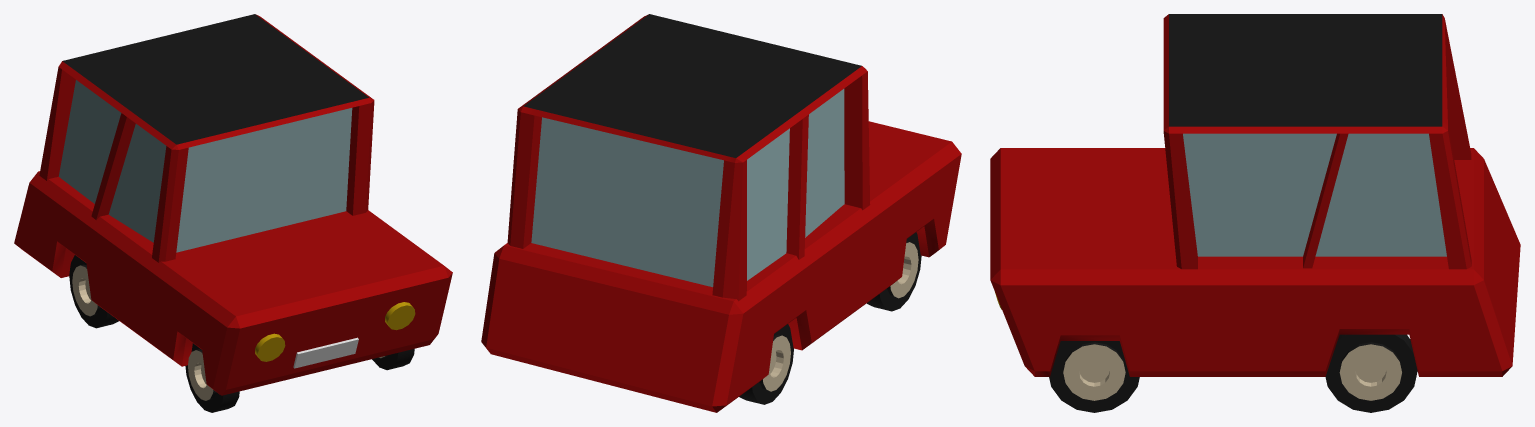
Rendered from car1.fbx.
3 views of the same model, side by side, from view 1: azimuth 30°, elevation 25°; view 2: azimuth 150°, elevation 25°; view 3: azimuth 270°, elevation 25° (orthographic). The views are drawn at different scales.
Parts seen in each view (by area): view 1: car1; view 2: car1; view 3: car1.
Boxes of the visible parts, x1,y1,x2,y2 form: car1: (14, 14, 452, 412); car1: (481, 14, 961, 412); car1: (990, 14, 1520, 412).
Size of the model in its own units: 2.2 by 2.25 by 3.75.
